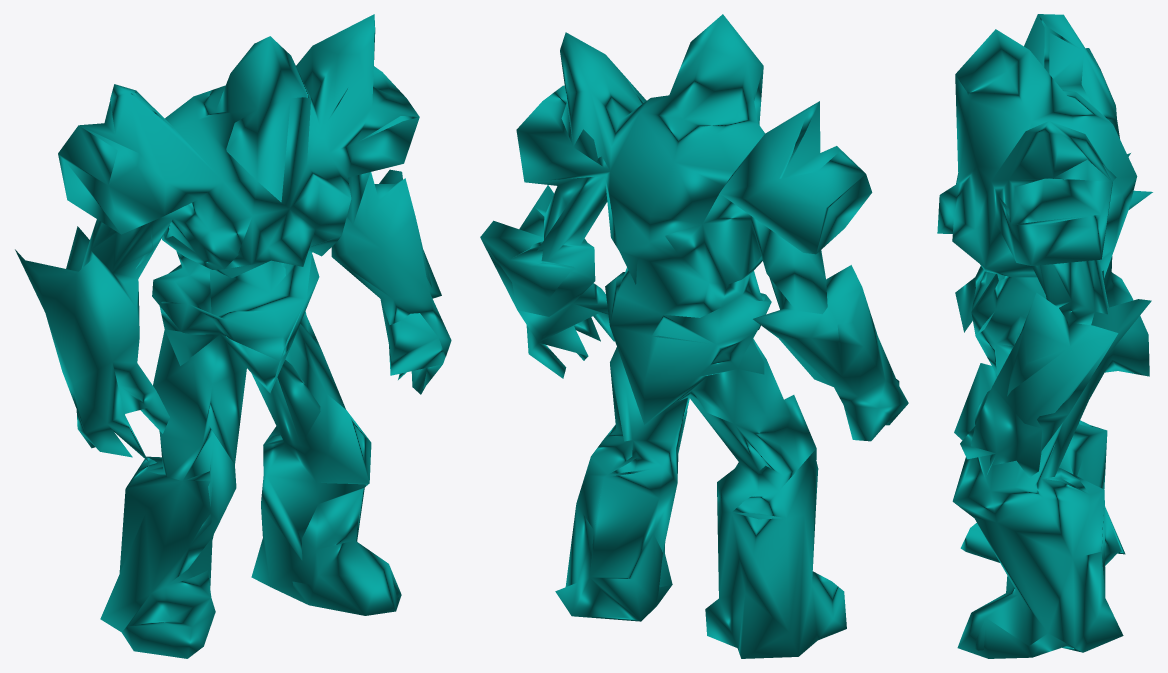
The model's file is gen3d-crystal-golem-lod1.glb.
3 renders of one model, left to right at view 1: azimuth 30°, elevation 25°; view 2: azimuth 150°, elevation 25°; view 3: azimuth 270°, elevation 25°, orthographic. The views are drawn at different scales.
Parts seen in each view (by area): view 1: part_0; view 2: part_0; view 3: part_0.
Boxes of the visible parts, left/top/right/bottom form: part_0: left=15, top=14, right=451, bottom=658; part_0: left=480, top=14, right=908, bottom=658; part_0: left=937, top=14, right=1152, bottom=658.
Bounding box in the file's own units: 0.6641 × 0.9993 × 0.3438.
